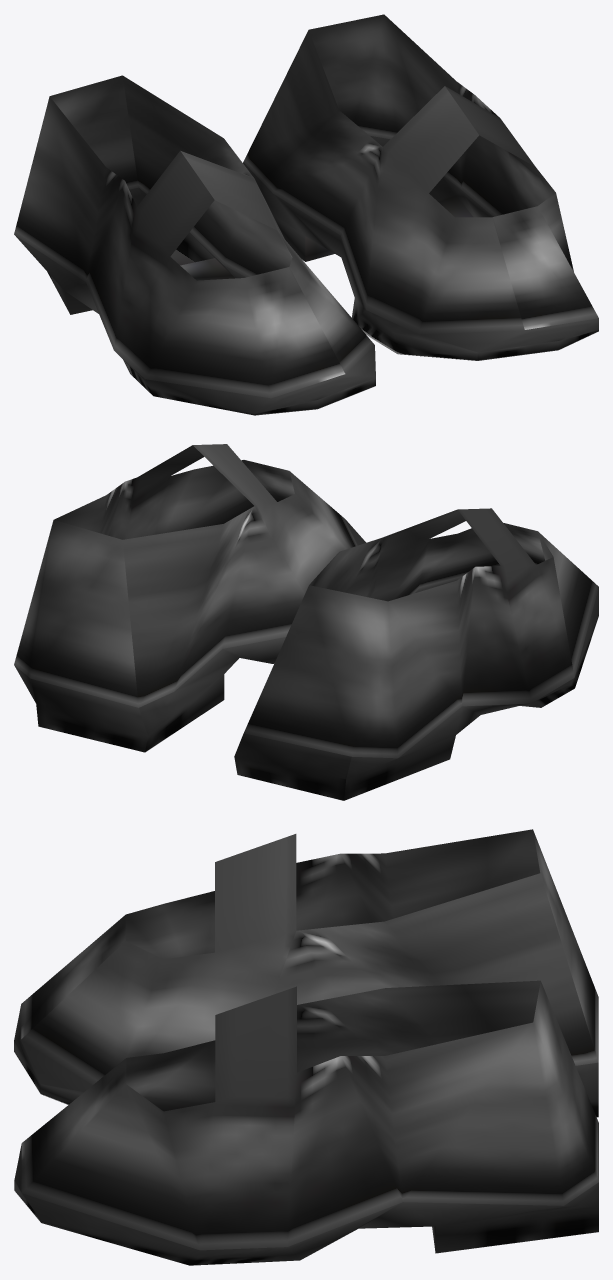
File: shoesfancy_ground.fbx
3 views of the same model, one above another, from view 1: azimuth 30°, elevation 25°; view 2: azimuth 150°, elevation 25°; view 3: azimuth 270°, elevation 25° (orthographic). The views are drawn at different scales.
Visible parts, largest first — view 1: Body; view 2: Body; view 3: Body.
Part boxes in pixels (left/top/right/bottom): Body: left=14, top=14, right=598, bottom=415; Body: left=14, top=444, right=598, bottom=800; Body: left=14, top=829, right=598, bottom=1265.
Size of the model in its own units: 0.1534 by 0.0664 by 0.1529.
